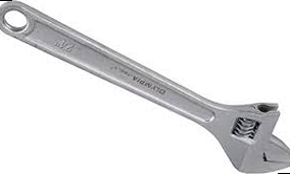Wrench: (3, 3, 290, 172)
